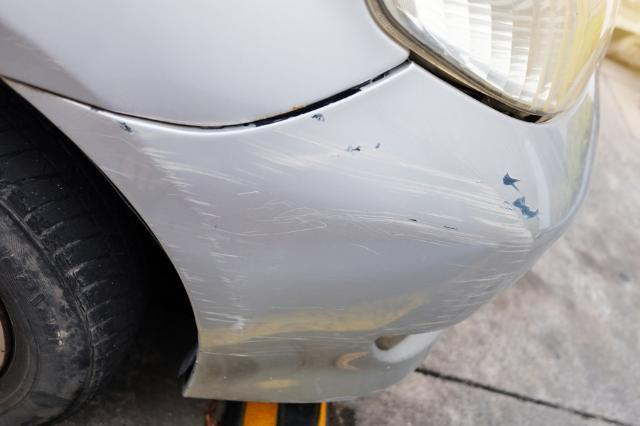Bumper: (66, 98, 543, 389)
